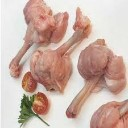chicken_lollipop: (8, 1, 88, 93), (73, 42, 126, 128)
